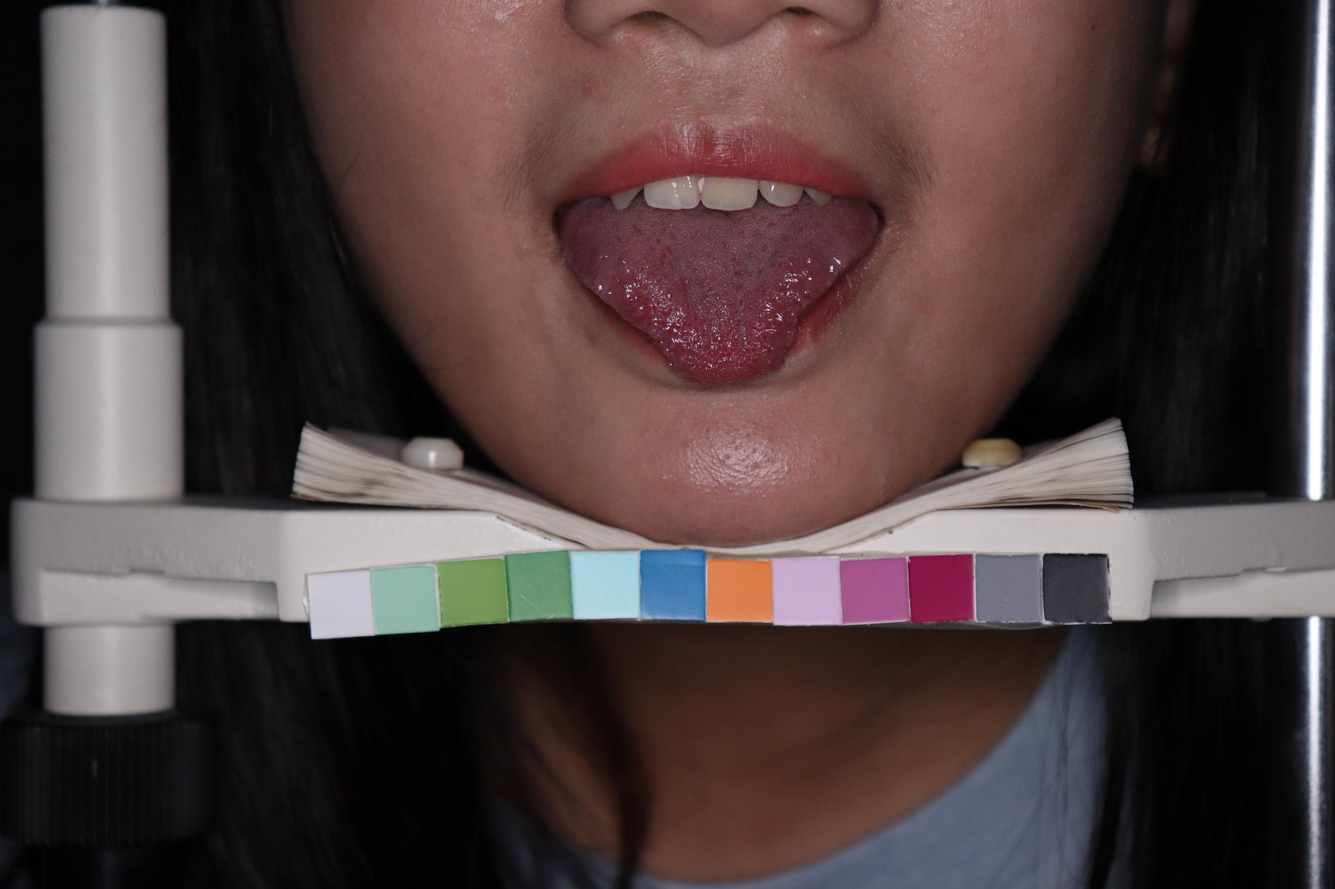baitaishe: (564, 195, 879, 383)
hongdianshe: (654, 217, 783, 281)
zishe: (563, 195, 878, 383)
